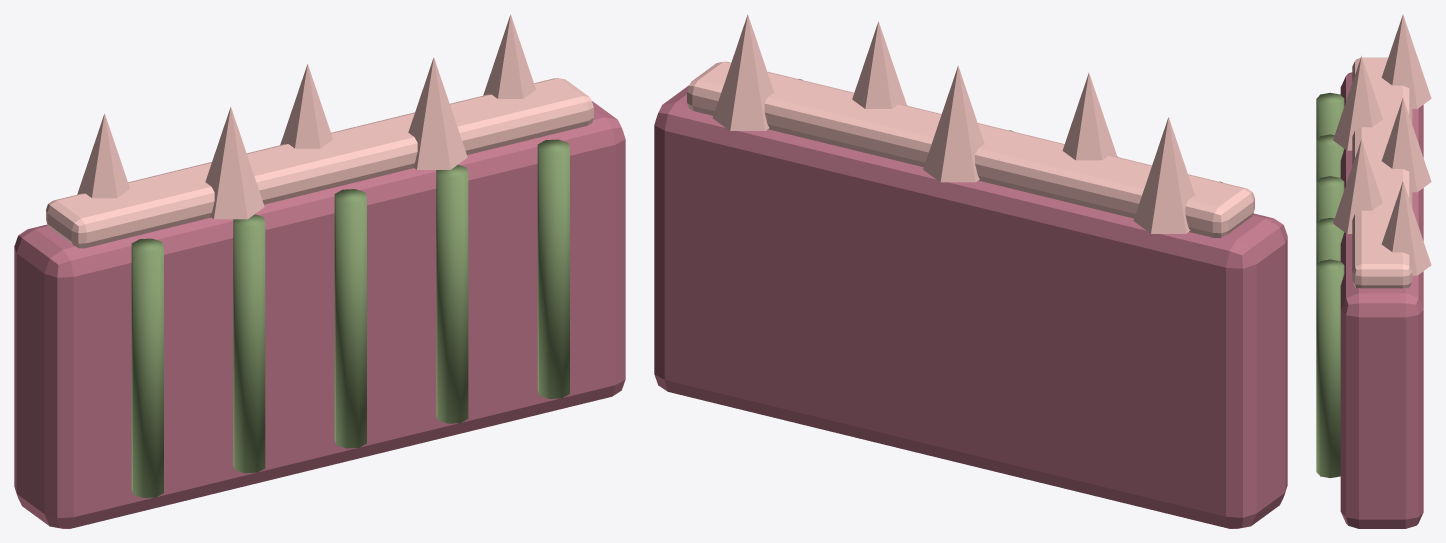
The model's file is wall-thorn.glb.
The picture shows the model from 3 angles, left to right: view 1: azimuth 30°, elevation 25°; view 2: azimuth 150°, elevation 25°; view 3: azimuth 270°, elevation 25°; orthographic projection. The views are drawn at different scales.
Visible parts, largest first — view 1: mesh_wall_thorn_body, mesh_wall_thorn_vine, mesh_wall_thorn_accent; view 2: mesh_wall_thorn_body, mesh_wall_thorn_accent; view 3: mesh_wall_thorn_body, mesh_wall_thorn_accent, mesh_wall_thorn_vine.
Part boxes in pixels (x1,y1,x2,y2): mesh_wall_thorn_body: [14, 101, 625, 528]; mesh_wall_thorn_vine: [131, 139, 569, 497]; mesh_wall_thorn_accent: [46, 14, 593, 248]; mesh_wall_thorn_body: [654, 85, 1287, 528]; mesh_wall_thorn_accent: [687, 14, 1254, 237]; mesh_wall_thorn_body: [1340, 72, 1423, 528]; mesh_wall_thorn_accent: [1333, 14, 1431, 288]; mesh_wall_thorn_vine: [1316, 92, 1344, 478].
Bounding box in the file's own units: 1.08 × 0.68 × 0.222.
